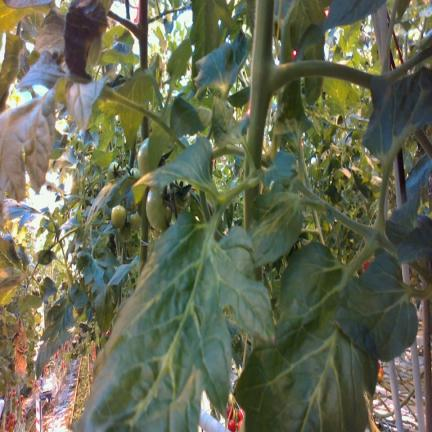6kp_petiole: (246, 3, 336, 164), (108, 2, 148, 65)
MainStem: (246, 1, 274, 167), (139, 186, 150, 275), (139, 0, 147, 68)
tomato: (146, 187, 171, 230), (137, 138, 149, 176), (111, 205, 126, 228), (107, 161, 121, 180), (129, 212, 141, 230), (120, 226, 131, 242), (130, 167, 140, 180), (228, 418, 235, 431), (238, 408, 244, 421)
